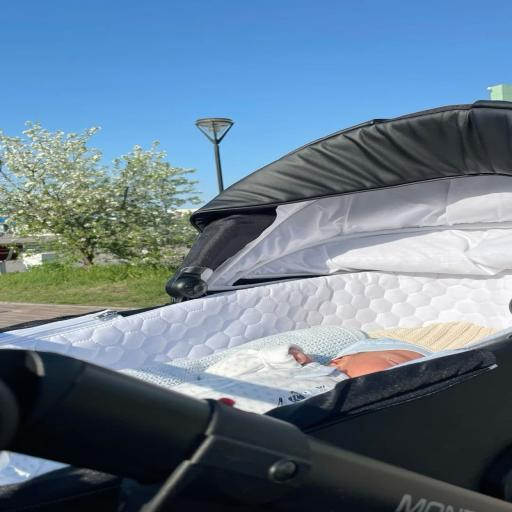phone: (214, 142, 223, 192)
shelf: (0, 302, 129, 327)
steps_down: (0, 101, 511, 511)
